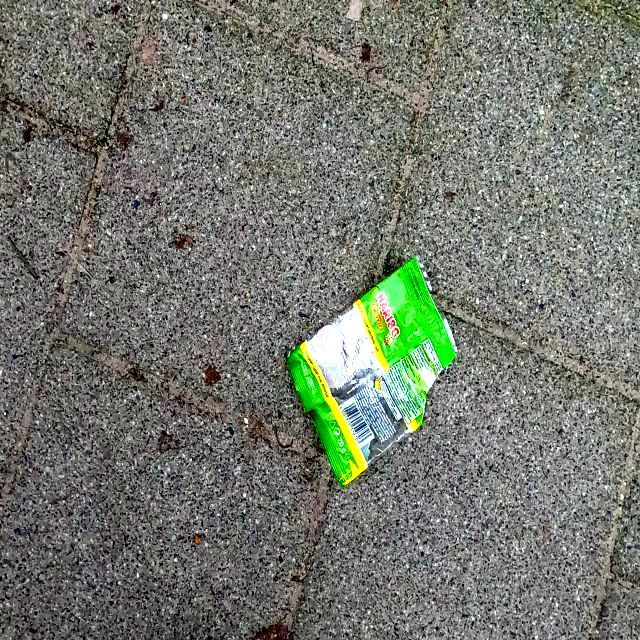Plastic: (282, 252, 460, 490)
